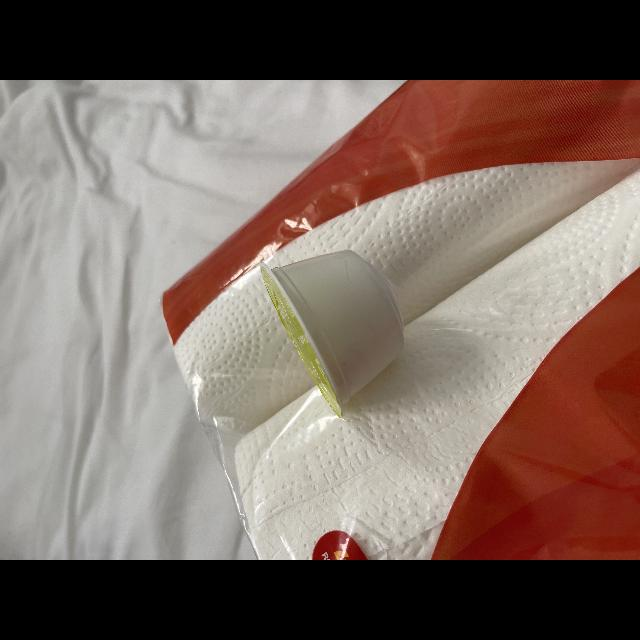intact_capsule: (255, 245, 418, 421)
